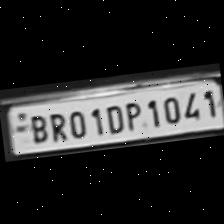0: (62, 105, 90, 140), (156, 92, 182, 124)
1: (84, 103, 106, 137), (140, 94, 162, 128), (199, 86, 220, 118)
4: (178, 88, 201, 121)
B: (25, 110, 50, 144)
D: (101, 100, 126, 134)
P: (121, 96, 144, 130)
R: (43, 108, 66, 142)
